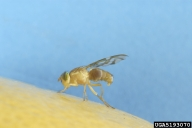Fruit fly: (49, 50, 120, 116)
